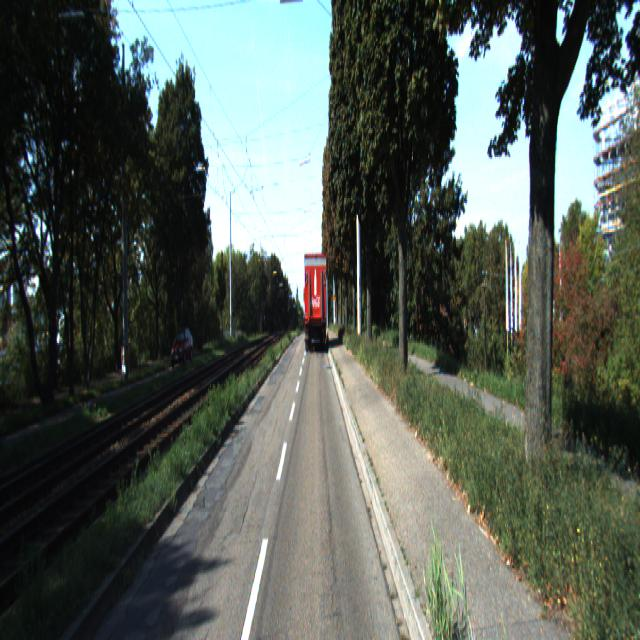Car: (301, 249, 327, 352), (170, 328, 195, 369)
